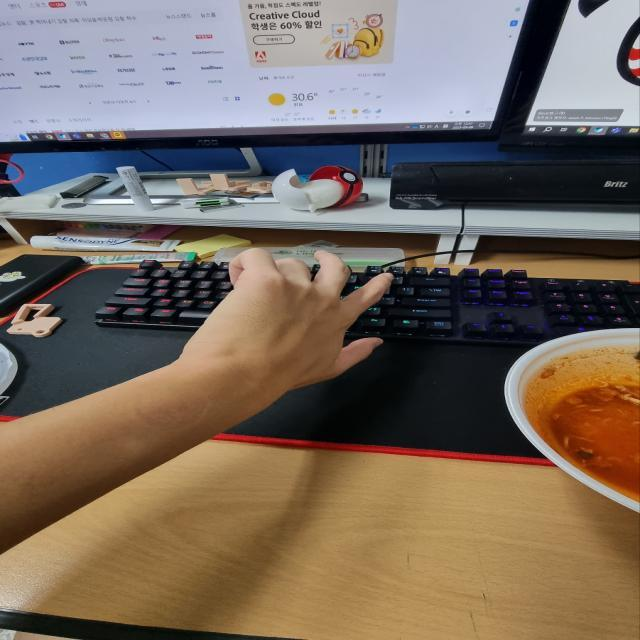keyboard-with-hands: (89, 259, 640, 346)
